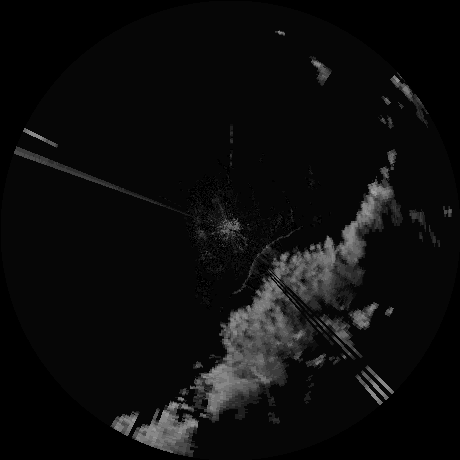frontgust: (237, 229, 298, 291)
